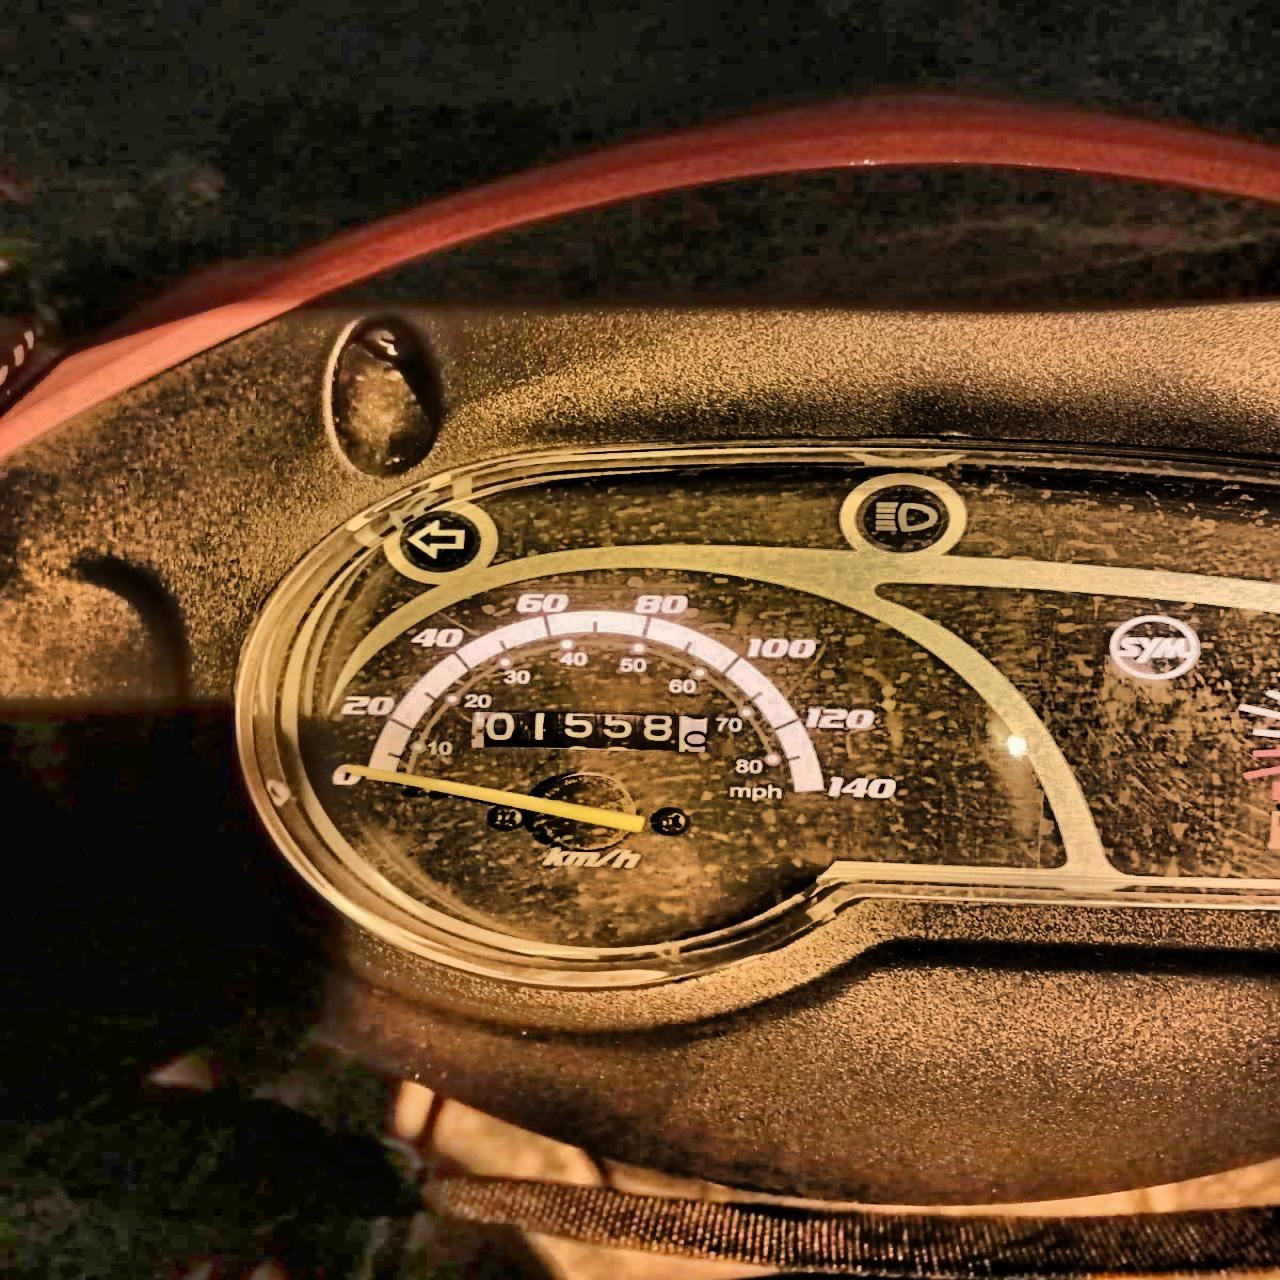0: (482, 709, 515, 742)
1: (526, 708, 549, 745)
5: (561, 708, 592, 744), (602, 712, 635, 741)
8: (641, 713, 673, 747)
9: (681, 727, 710, 753)
odometer: (468, 708, 716, 754)
